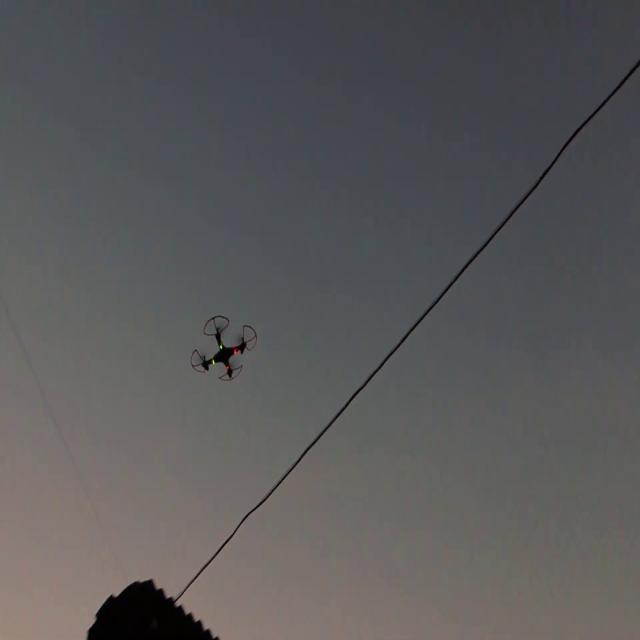Drons: (186, 312, 258, 384)
